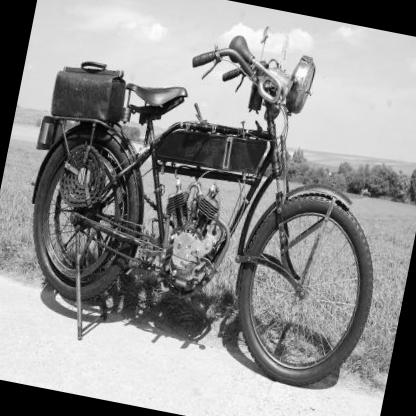moto: (1, 1, 416, 411)
